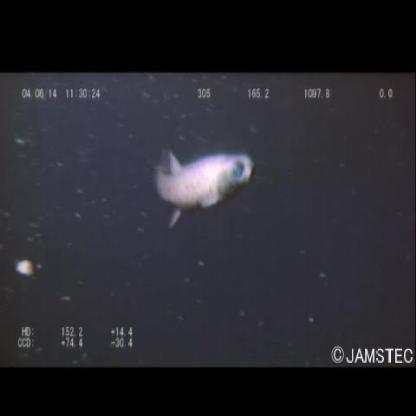Bio: (149, 142, 259, 238)
